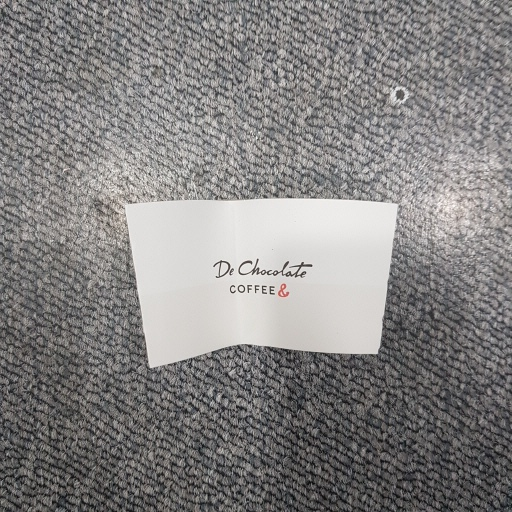Paper_0: (111, 187, 405, 378)
